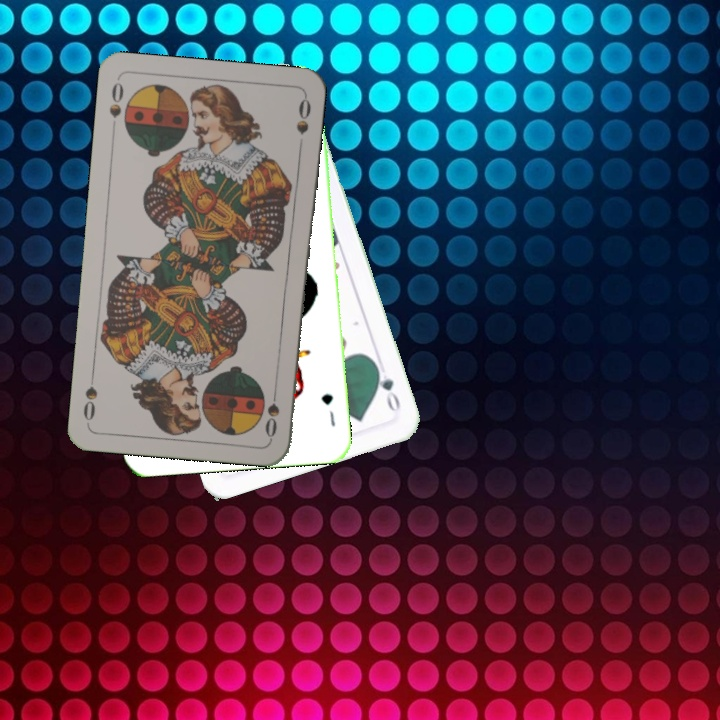GO: (371, 360, 403, 416)
GU: (317, 390, 338, 430)
SO: (261, 381, 282, 440), (105, 78, 127, 120)
